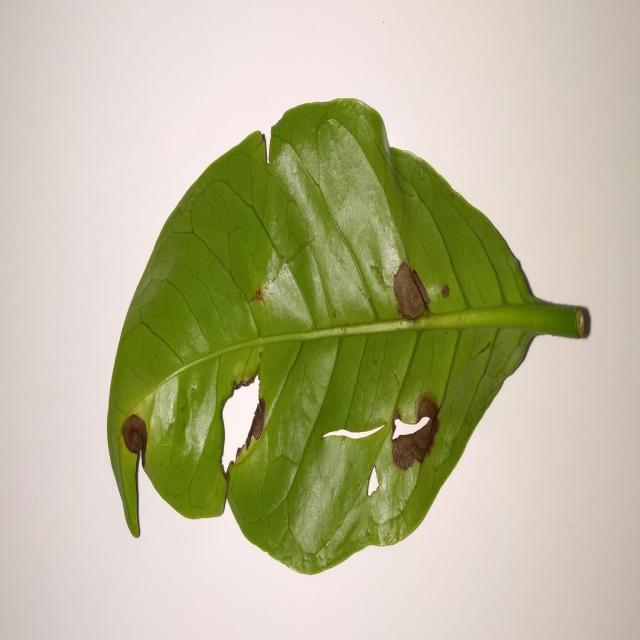Enfermedad-Antracnosis: (106, 99, 592, 578)
